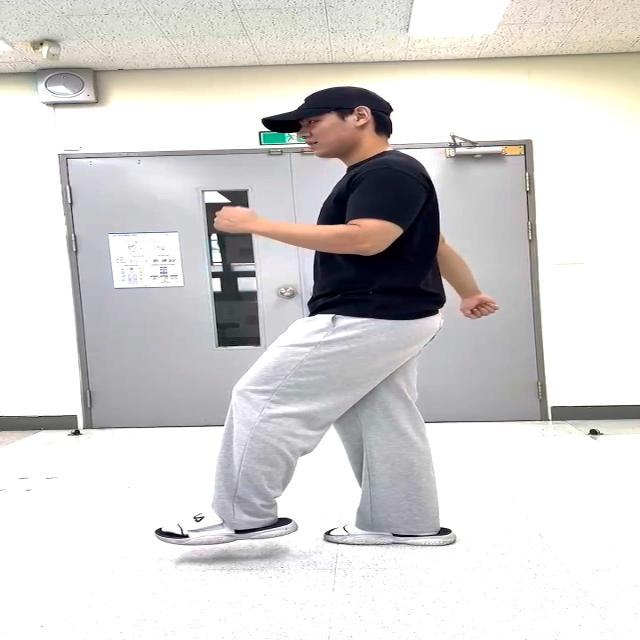leg: (192, 319, 352, 552)
